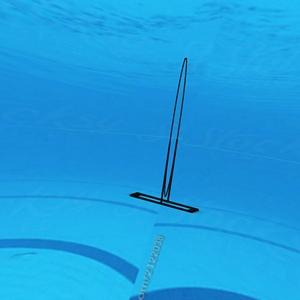circle: (128, 56, 202, 213)
